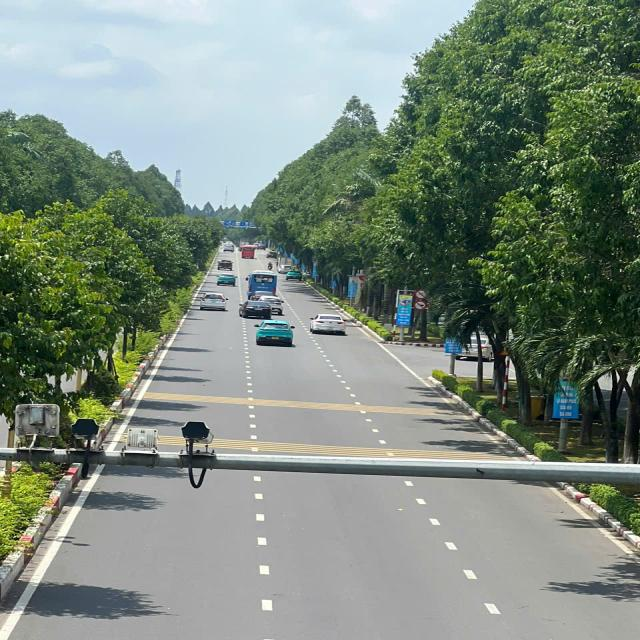car: (255, 318, 298, 349), (307, 310, 350, 336), (197, 290, 230, 314), (236, 300, 271, 318), (260, 294, 286, 316), (213, 272, 239, 288), (285, 268, 305, 284)
motobyte: (268, 260, 274, 272)
